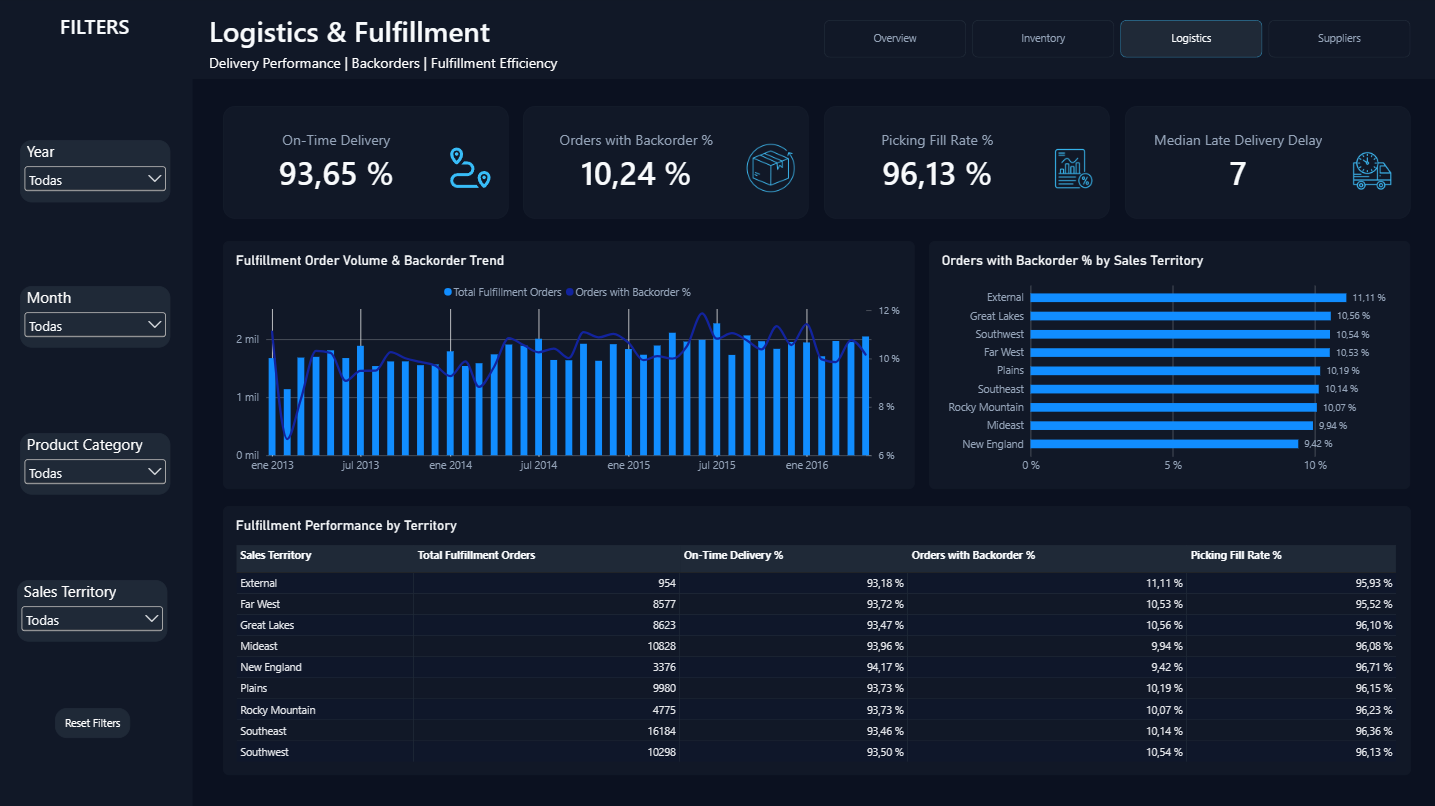

What the dashboard file says about the page in this screenshot:
{"tool":"powerbi","page":{"name":"Logistics","canvas":[1920,1080],"ordinal":2},"visuals":[{"type":"shape","box":[250.9,0,1669.1,109.1],"z":0},{"type":"textbox","box":[281.6,19.5,1079.8,55.4],"z":1000},{"type":"textbox","box":[281.6,74.9,1079.8,34.4],"z":2000},{"type":"shape","box":[0,1.5,260,1079],"z":3000},{"type":"textbox","box":[0,1.4,260,107.1],"z":4000},{"type":"cardVisual","fields":{"Data":["_Medidas.On-Time Delivery %"]},"box":[300,145,380,150],"z":5000},{"type":"cardVisual","fields":{"Data":["_Medidas.Backorder Rate %"]},"box":[700,145,380,150],"z":6000},{"type":"cardVisual","fields":{"Data":["_Medidas.Picking Fill Rate %"]},"box":[1100,145,380,150],"z":7000},{"type":"cardVisual","fields":{"Data":["_Medidas.Median Delivery Delay Days"]},"box":[1500,145,380,150],"z":8000},{"type":"pageNavigator","box":[1100,30,780,50],"z":9000},{"type":"lineStackedColumnComboChart","title":"Fulfillment Order Volume & Backorder Trend","fields":{"Category":["dim_date.YearMonthDate"],"Y":["_Medidas.Total Fulfillment Orders"],"Y2":["_Medidas.Backorder Rate %"]},"box":[300,325,920,330],"z":10000},{"type":"clusteredBarChart","title":"Orders with Backorder % by Sales Territory","fields":{"Category":["dim_customer.sales_territory"],"Y":["_Medidas.Backorder Rate %"]},"box":[1240,325,640,330],"z":11000},{"type":"tableEx","title":"Fulfillment Performance by Territory","fields":{"Values":["dim_customer.sales_territory","_Medidas.Total Fulfillment Orders","_Medidas.On-Time Delivery %","_Medidas.Backorder Rate %","_Medidas.Picking Fill Rate %"]},"box":[300.6,677,1580.1,357.8],"z":12000},{"type":"slicer","fields":{"Values":["dim_date.year"]},"box":[30,190,200,82.9],"z":13000},{"type":"slicer","fields":{"Values":["dim_date.month_name"]},"box":[30,385,200,82],"z":14000},{"type":"slicer","fields":{"Values":["dim_stock_group.stock_group_name"]},"box":[30,580,200,82],"z":15000},{"type":"slicer","fields":{"Values":["dim_customer.sales_territory"]},"box":[27.1,775,200,82],"z":16000},{"type":"actionButton","title":"Reset Filters","box":[76.6,946,100,40],"z":17000}]}

Visuals, with their boxes in screenshot pixels (x1, y1, x2, y2), scaled from the page's 1920x1080 canvas onto the 1435x806 screenshot:
shape: (x1=188, y1=0, x2=1434, y2=81)
textbox: (x1=210, y1=15, x2=1018, y2=56)
textbox: (x1=210, y1=56, x2=1018, y2=82)
shape: (x1=0, y1=1, x2=194, y2=805)
textbox: (x1=0, y1=1, x2=194, y2=81)
cardVisual - _Medidas.On-Time Delivery %: (x1=224, y1=108, x2=508, y2=220)
cardVisual - _Medidas.Backorder Rate %: (x1=523, y1=108, x2=807, y2=220)
cardVisual - _Medidas.Picking Fill Rate %: (x1=822, y1=108, x2=1106, y2=220)
cardVisual - _Medidas.Median Delivery Delay Days: (x1=1121, y1=108, x2=1405, y2=220)
pageNavigator: (x1=822, y1=22, x2=1405, y2=60)
"Fulfillment Order Volume & Backorder Trend" lineStackedColumnComboChart: (x1=224, y1=243, x2=912, y2=489)
"Orders with Backorder % by Sales Territory" clusteredBarChart: (x1=927, y1=243, x2=1405, y2=489)
"Fulfillment Performance by Territory" tableEx: (x1=225, y1=505, x2=1406, y2=772)
slicer - dim_date.year: (x1=22, y1=142, x2=172, y2=204)
slicer - dim_date.month_name: (x1=22, y1=287, x2=172, y2=349)
slicer - dim_stock_group.stock_group_name: (x1=22, y1=433, x2=172, y2=494)
slicer - dim_customer.sales_territory: (x1=20, y1=578, x2=170, y2=640)
"Reset Filters" actionButton: (x1=57, y1=706, x2=132, y2=736)
